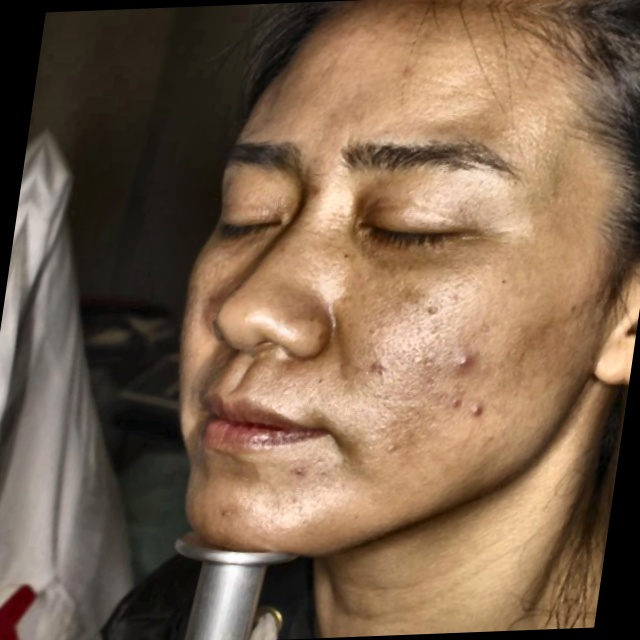comedone: (449, 348, 481, 372), (441, 393, 471, 412), (468, 396, 488, 422)
